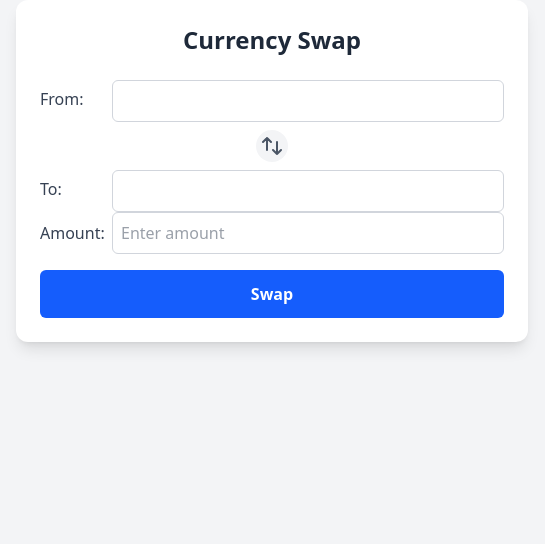
it: CurrencySwapForm › shows success message after successful form submission
# Fill the form
Type "BTC" into the field labelled "From:" at x=308, y=101, box [112,80,504,122]
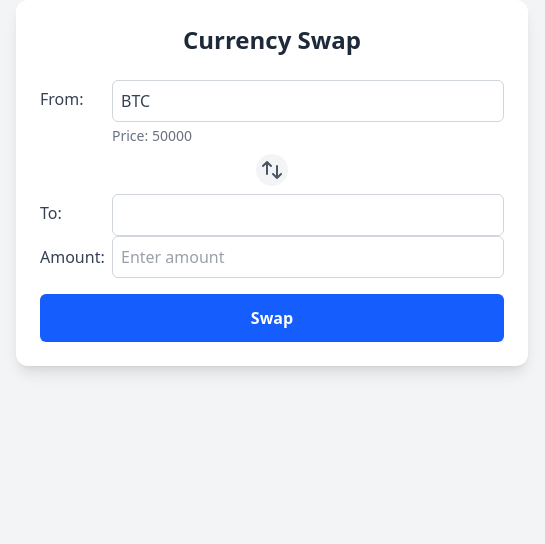
Type "ETH" into the field labelled "To:" at x=308, y=215, box [112,194,504,236]
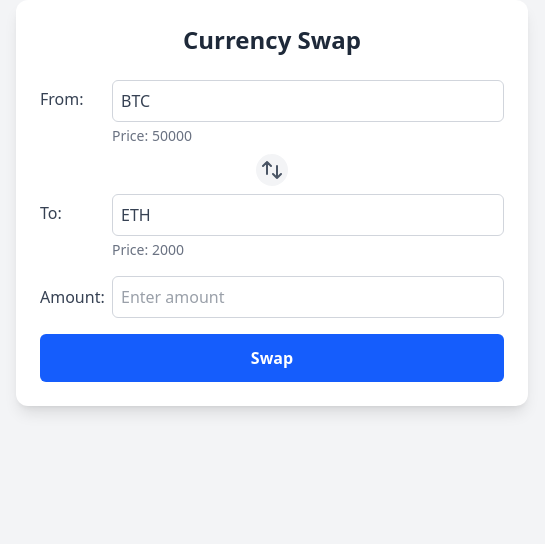
Type "1" into the number field labelled "Amount:" at x=308, y=297, box [112,276,504,318]
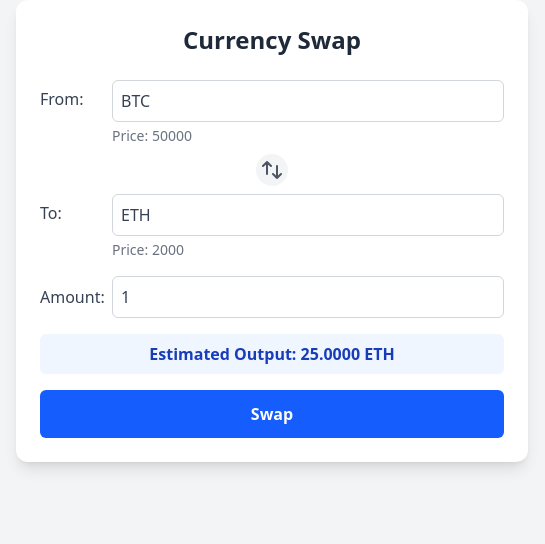
# Submit form
Click the button "Swap" at x=272, y=414, box [40,390,504,438]
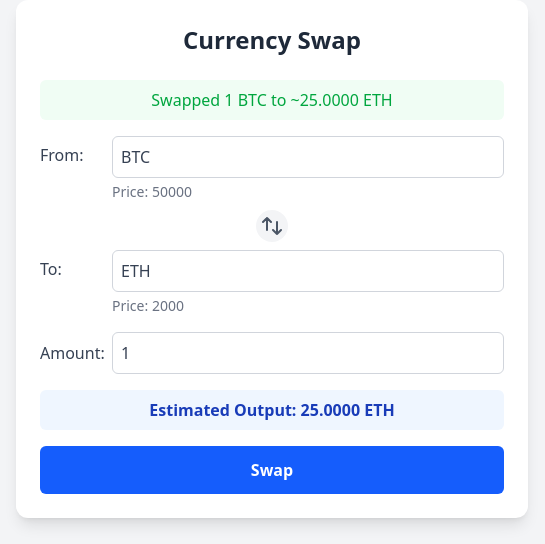
Check: the text "Swapped 1 BTC to ~25.0000 ETH" is shown, box [40,80,504,120]
